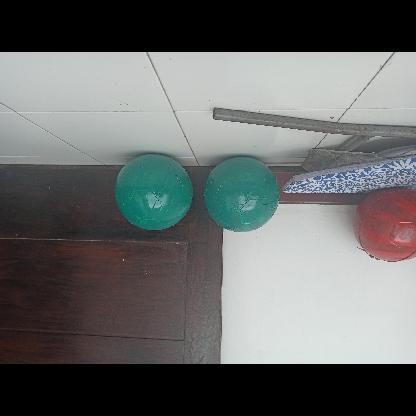green_ball: (112, 154, 192, 234), (201, 157, 279, 235)
